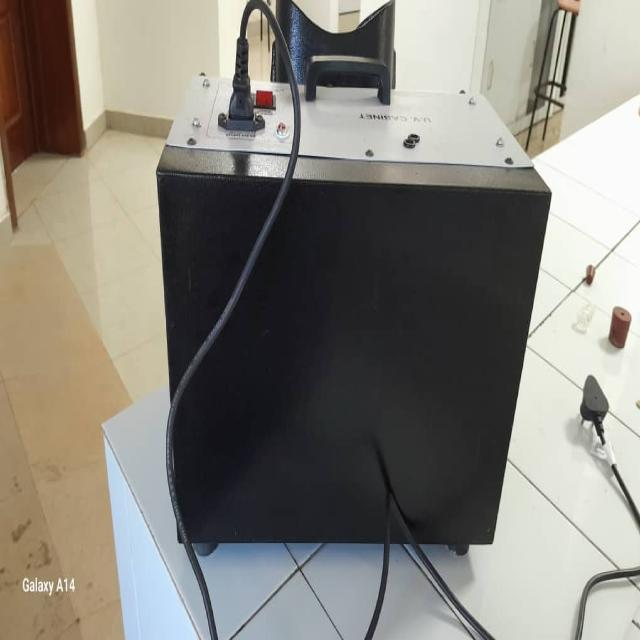U.V Cabinet: (149, 5, 566, 541)
